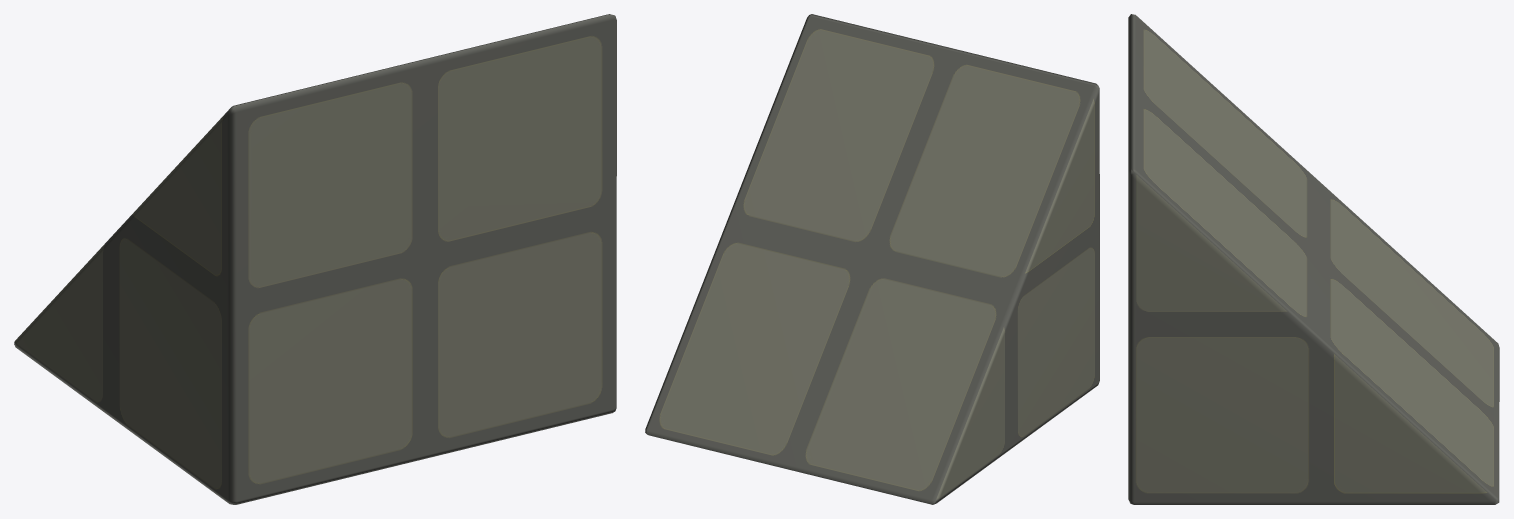
The model's file is gray_ramp.obj.
3 views of the same model, side by side, from view 1: azimuth 30°, elevation 25°; view 2: azimuth 150°, elevation 25°; view 3: azimuth 270°, elevation 25° (orthographic). The views are drawn at different scales.
Visible parts, largest first — view 1: pCube12_Mesh.007; view 2: pCube12_Mesh.007; view 3: pCube12_Mesh.007.
Part boxes in pixels (box(x1,y1,x2,y2)): pCube12_Mesh.007: box(14, 14, 616, 504); pCube12_Mesh.007: box(645, 14, 1099, 504); pCube12_Mesh.007: box(1128, 14, 1499, 504).
Size of the model in its own units: 2 by 1.97 by 1.97.
1 material, 1 textured.
